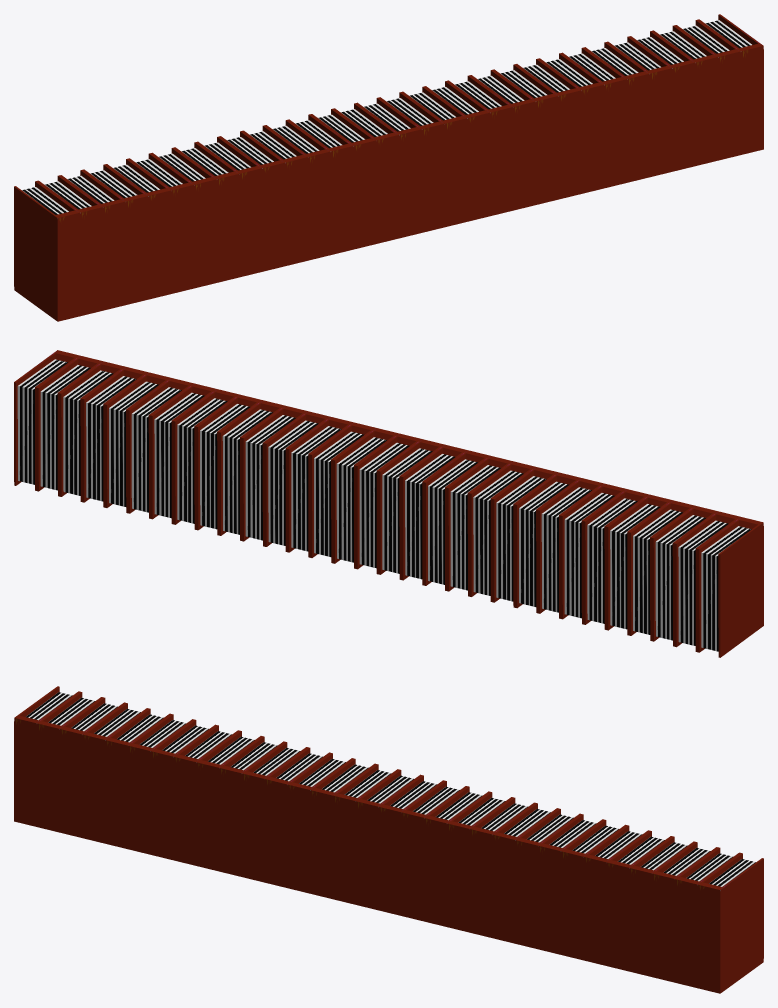
The model's file is Libros_grande.obj.
The picture shows the model from 3 angles, top to bottom: view 1: azimuth 30°, elevation 25°; view 2: azimuth 150°, elevation 25°; view 3: azimuth 330°, elevation 25°; orthographic projection.
Visible parts, largest first — view 1: Grande.050; view 2: Grande.050; view 3: Grande.050.
Part boxes in pixels (x1,y1,x2,y2): Grande.050: [14, 14, 763, 321]; Grande.050: [14, 350, 763, 657]; Grande.050: [14, 686, 763, 993].
Bounding box in the file's own units: 13.07 × 1.84 × 1.4.
Materials: 1 (1 with a texture image).
